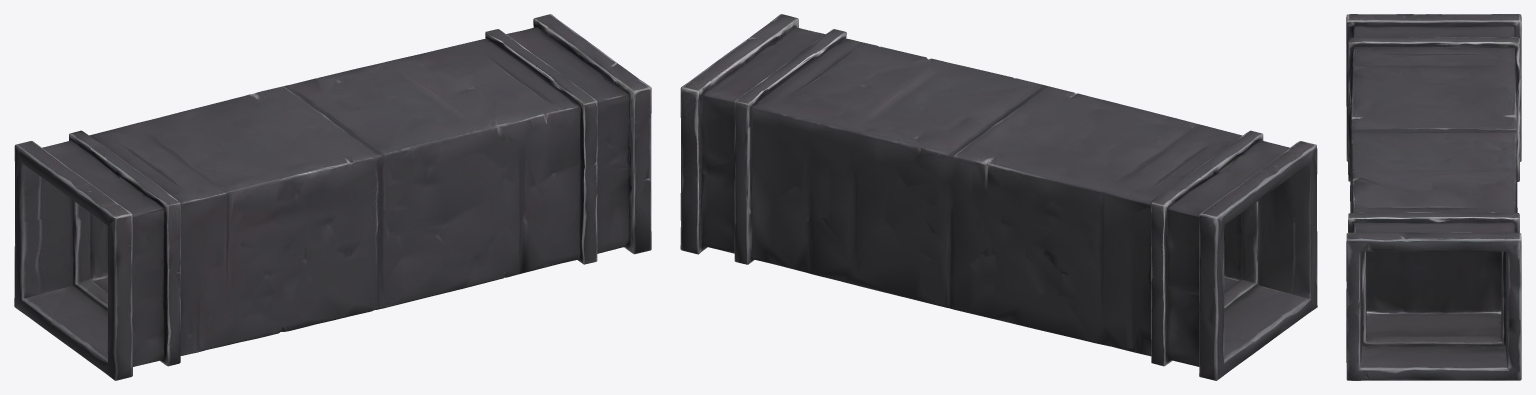
Rendered from decor_metal_duct_idle.glb.
3 renders of one model, left to right at view 1: azimuth 30°, elevation 25°; view 2: azimuth 150°, elevation 25°; view 3: azimuth 270°, elevation 25°, orthographic. The views are drawn at different scales.
Parts seen in each view (by area): view 1: tripo_node_44f78ee5-a1e0-47a1-8484-2b18f9ef0ed6; view 2: tripo_node_44f78ee5-a1e0-47a1-8484-2b18f9ef0ed6; view 3: tripo_node_44f78ee5-a1e0-47a1-8484-2b18f9ef0ed6.
Boxes of the visible parts, x1=… form: tripo_node_44f78ee5-a1e0-47a1-8484-2b18f9ef0ed6: x1=14, y1=14, x2=651, y2=380; tripo_node_44f78ee5-a1e0-47a1-8484-2b18f9ef0ed6: x1=680, y1=14, x2=1317, y2=380; tripo_node_44f78ee5-a1e0-47a1-8484-2b18f9ef0ed6: x1=1346, y1=14, x2=1521, y2=380.
Bounding box in the file's own units: 1.5 × 0.4382 × 0.4908.
Materials: 1 (1 with a texture image).
